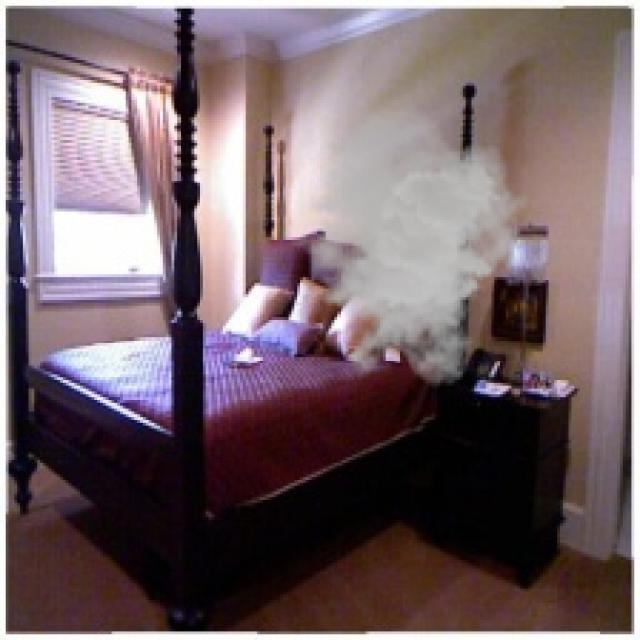smoke: (280, 105, 529, 388)
